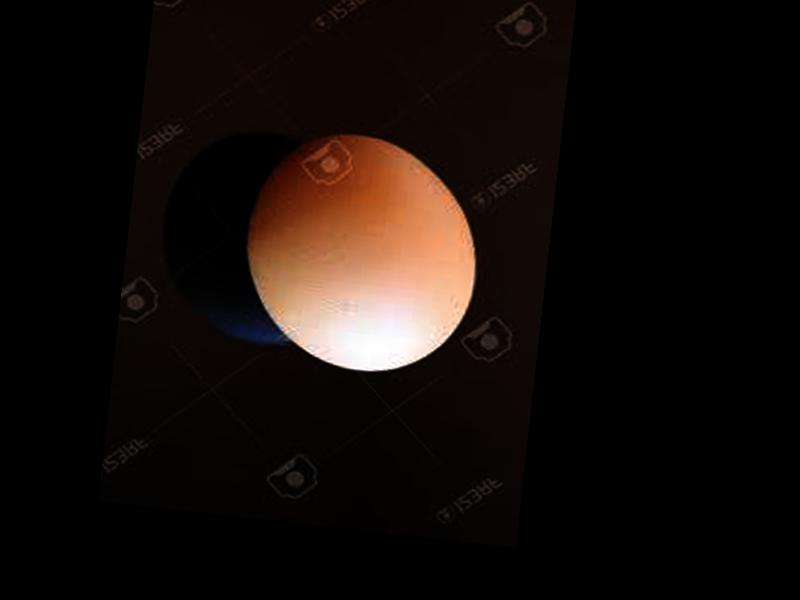Eggs: (231, 125, 490, 383)
